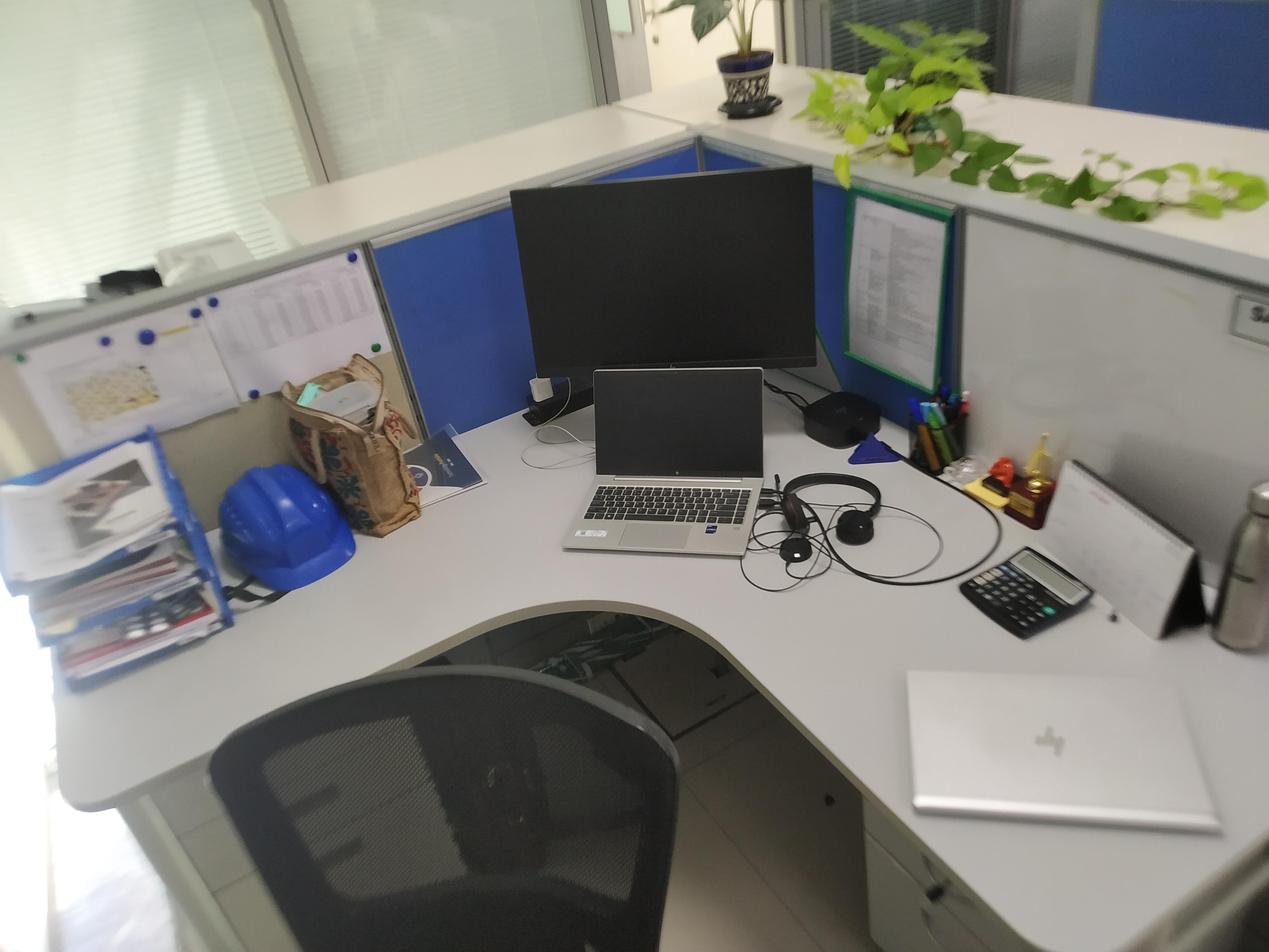book: (50, 452, 175, 556), (403, 422, 492, 509)
bottle: (1203, 475, 1269, 654)
calender: (1035, 451, 1217, 644)
desktop: (505, 160, 821, 381)
filetray: (0, 420, 243, 701)
headphone: (772, 472, 883, 546)
laptop: (903, 664, 1229, 839), (560, 363, 770, 561)
page: (15, 298, 245, 459), (196, 247, 396, 405), (840, 183, 958, 396)
